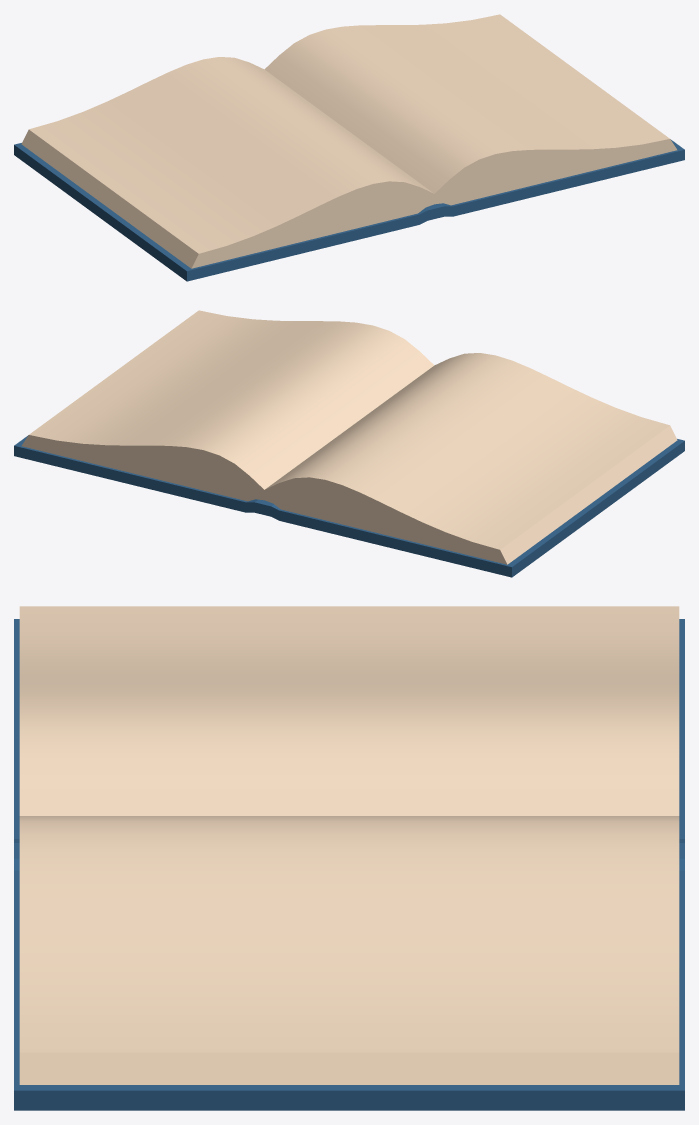
Rendered from 750ce4cc-212f-444e-a66f-f16160f10ecd.glb.
3 views of the same model, one above another, from view 1: azimuth 30°, elevation 25°; view 2: azimuth 150°, elevation 25°; view 3: azimuth 270°, elevation 25° (orthographic). The views are drawn at different scales.
Parts seen in each view (by area): view 1: BookPages, BookCover; view 2: BookPages, BookCover; view 3: BookPages, BookCover.
Part boxes in pixels (x1,y1,x2,y2): BookPages: (21,14,677,268); BookCover: (14,139,684,281); BookPages: (21,310,677,564); BookCover: (14,435,684,577); BookPages: (19,606,679,1084); BookCover: (14,619,684,1110).
Size of what is drawn, in the model's own units: 0.317 by 0.0309 by 0.1907.
1 material, 1 textured.
